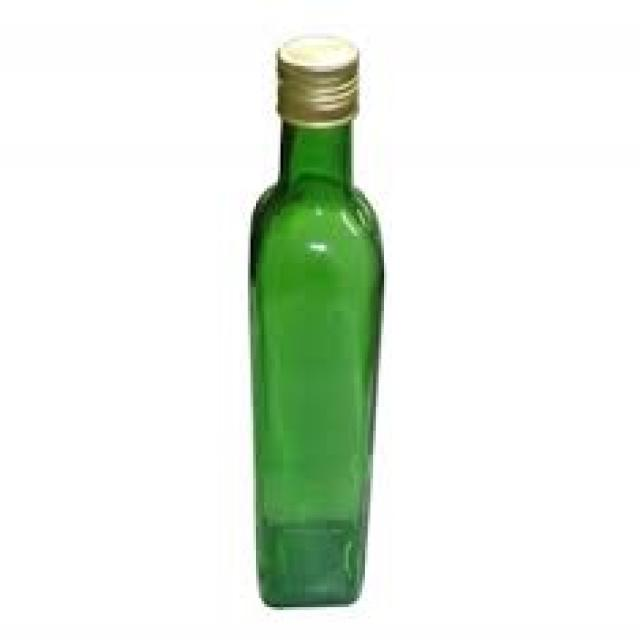glass: (248, 111, 381, 604)
metal: (272, 30, 354, 120)
